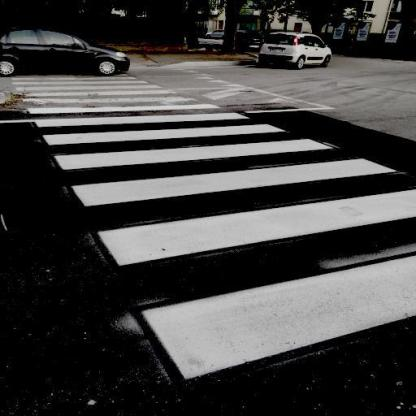crosswalk: (45, 136, 399, 214), (24, 102, 253, 130)
